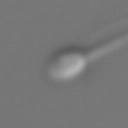abnormal: (76, 22, 127, 78)
